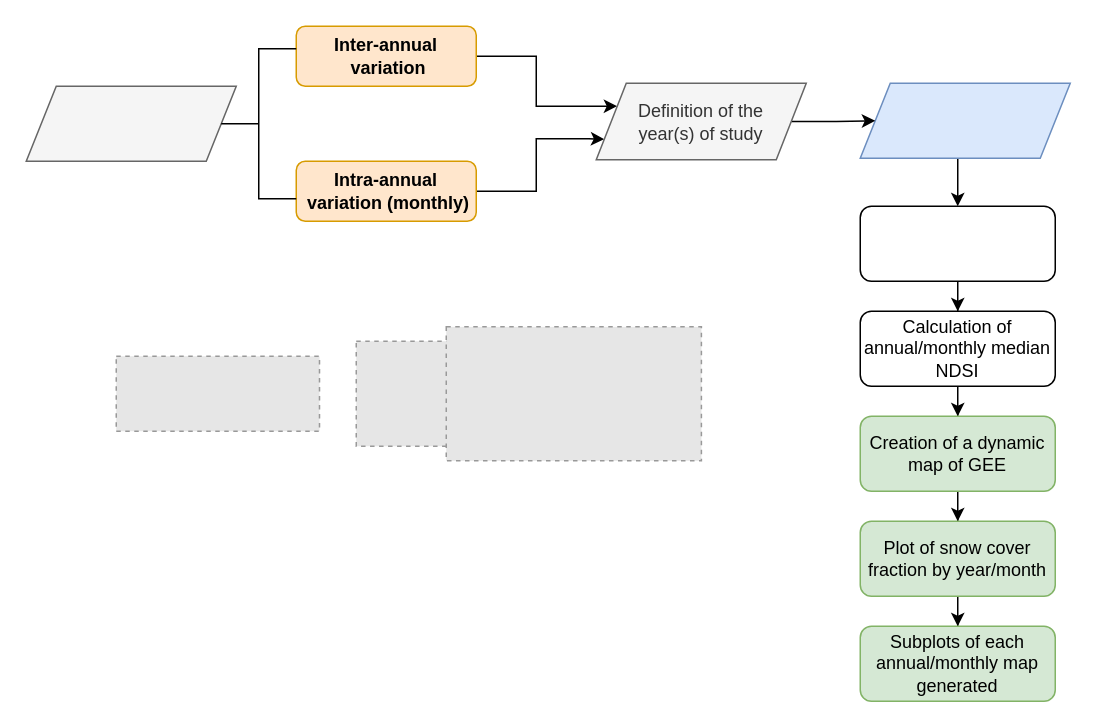
This 1097x728 diagram has some shape labels left out. Grey dashed boxes stand in for pictures. The shapes that lost their labels are listed below. From the top down, each one's box as (x1, y1, x2, y2) in pixels, then its label:
(25, 85, 236, 161): Definition of the study area (coordinates)
(859, 82, 1070, 158): Sentinel-2 images
(859, 205, 1055, 281): Calculation of NDSI
